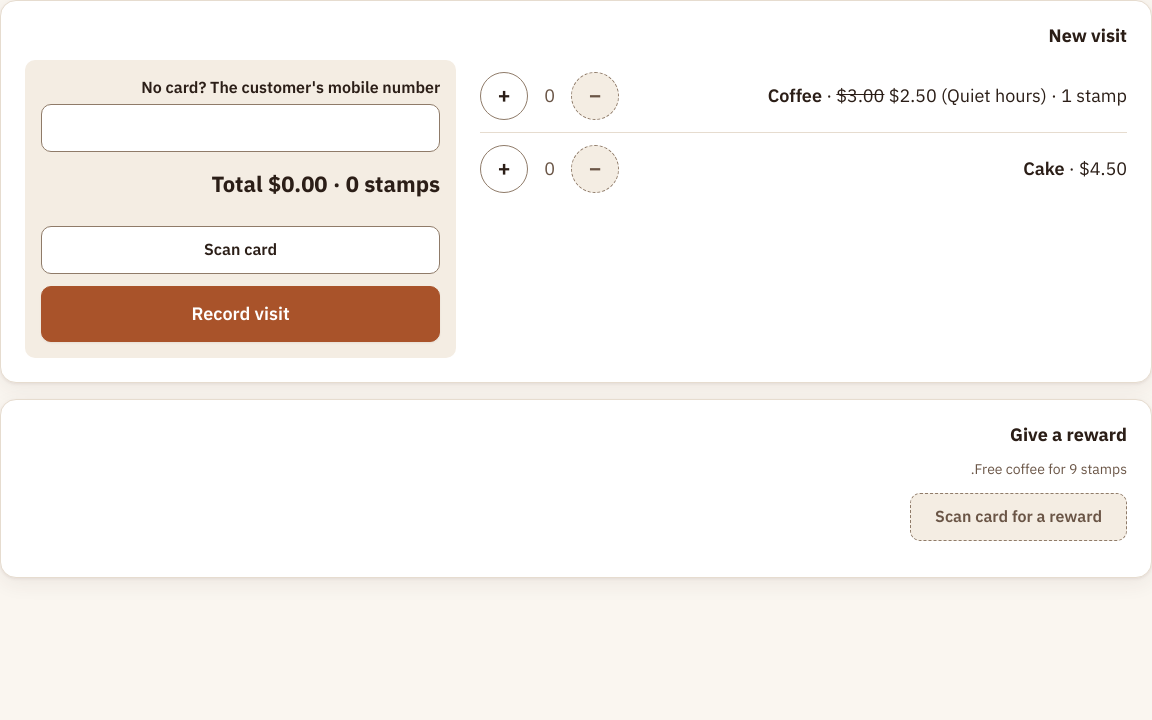
Test: visits › gives a fixed amount off, and says which price was and which is now
This screenshot has width=1152, height=720.
Check: the text "$2.50 (Quiet hours)" is shown, box [768,82,1127,108]
Step 1. Click the button named "One more Coffee" → point(504, 96), box [480,72,528,120]
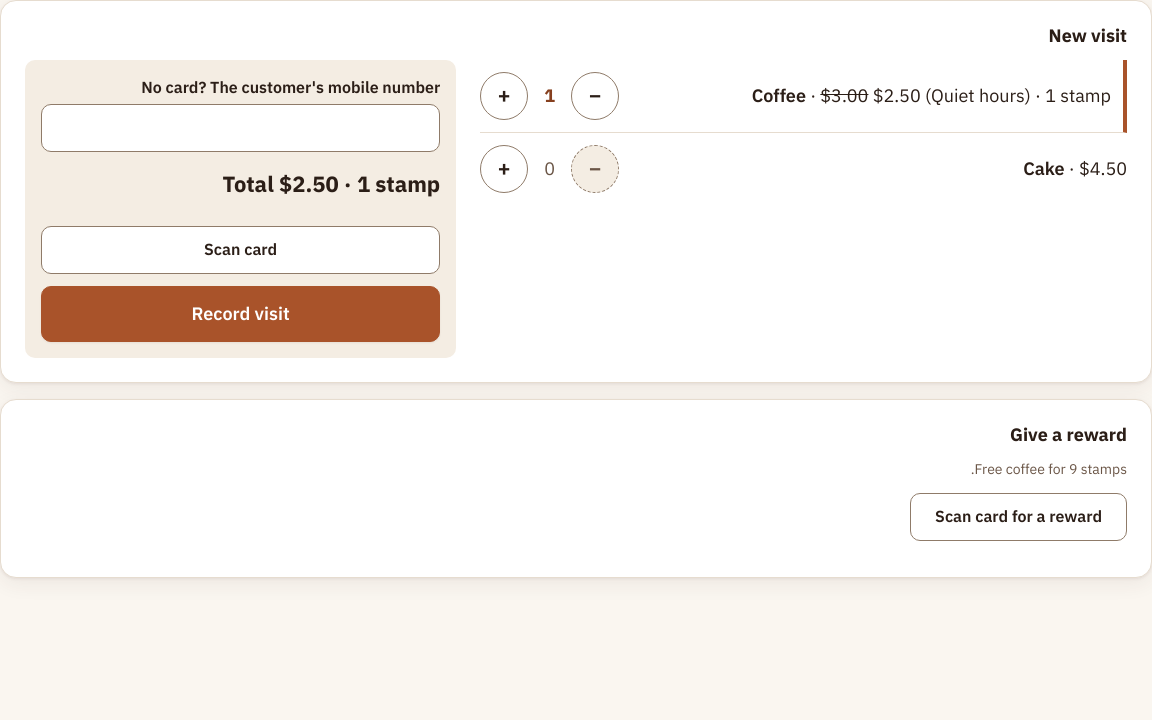
Check: the text "Total $2.50 · 1 stamp" is shown, box [222,168,440,201]
